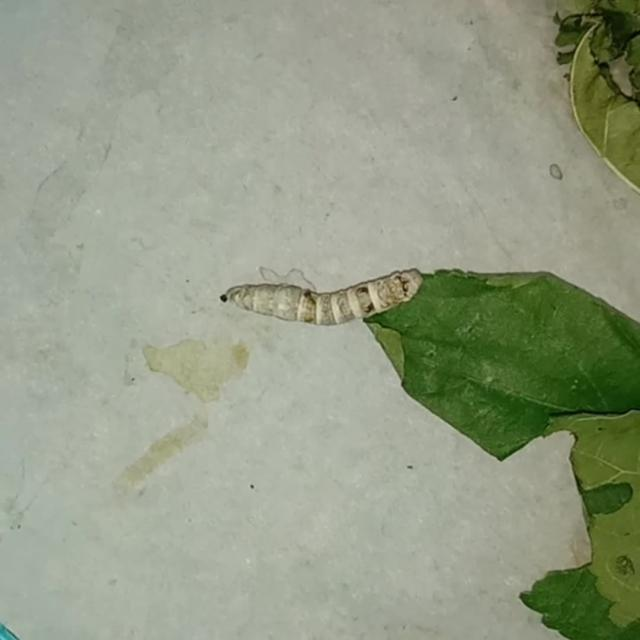Grasserie: (215, 245, 460, 366)
